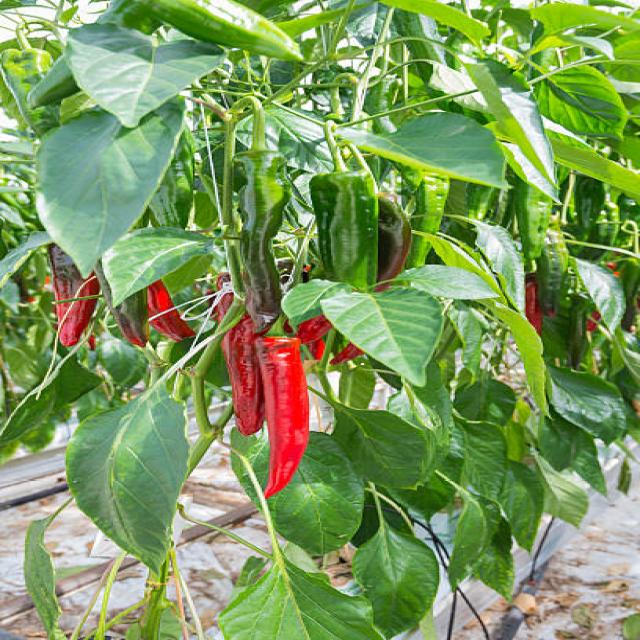Ripe: (265, 344, 311, 499), (223, 319, 268, 438), (50, 246, 99, 346), (149, 280, 193, 341)
Unripe: (151, 0, 304, 61), (240, 150, 289, 330), (314, 176, 380, 294), (406, 177, 449, 270)
